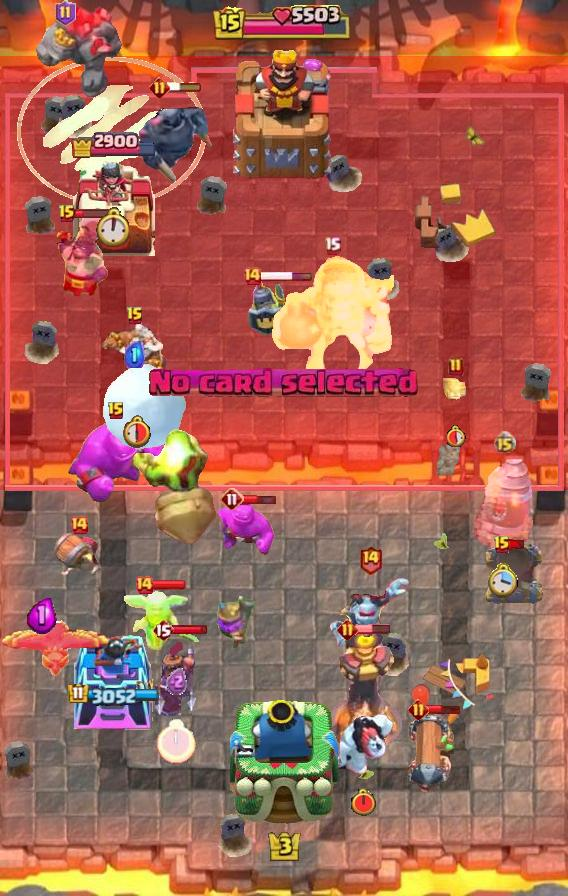battle-healer: (406, 708, 454, 798)
bomb-tower: (215, 596, 259, 650)
cannoneer-tower: (33, 0, 125, 100)
clock: (213, 5, 355, 43)
clone: (66, 420, 166, 504)
electro-dragon: (325, 627, 403, 753)
electro-giant: (270, 256, 394, 380)
electro-spirit: (27, 596, 57, 634), (165, 669, 186, 696), (125, 340, 145, 367)
elixir: (156, 720, 195, 764), (95, 207, 129, 247), (488, 561, 520, 598), (121, 414, 152, 448), (351, 787, 377, 816), (446, 425, 466, 447)
elixir-collector: (99, 323, 171, 399)
elixir-golem-big: (152, 634, 200, 724)
elixir-golem-small: (327, 575, 413, 653)
emote: (259, 271, 313, 282), (171, 624, 209, 636), (242, 494, 277, 507), (167, 81, 203, 93), (151, 579, 187, 591), (355, 623, 391, 635), (74, 208, 111, 219), (426, 705, 462, 716), (509, 539, 527, 550)
fisherman: (430, 445, 462, 475)
golden-knight: (0, 613, 110, 679)
golemite: (137, 88, 213, 184)
ice-spirit-evolution: (443, 372, 469, 400)
ice-wizard: (17, 57, 207, 206)
king-tower: (229, 43, 339, 181), (230, 698, 338, 826)
knight: (52, 530, 106, 582)
magic-archer: (474, 458, 534, 550)
monk: (55, 211, 111, 299)
musketeer: (482, 541, 546, 607)
poison: (115, 583, 203, 657)
princess: (246, 273, 290, 337)
queen-tower: (73, 623, 155, 731), (73, 156, 155, 256)
rage: (331, 712, 395, 778)
selected: (70, 130, 158, 158), (68, 682, 160, 706)
text: (357, 545, 382, 575), (220, 487, 244, 511), (55, 0, 76, 26), (493, 431, 516, 454), (152, 618, 174, 642), (337, 619, 359, 641), (149, 77, 170, 98), (407, 700, 428, 721), (242, 266, 262, 286), (69, 515, 89, 535), (134, 575, 154, 595), (58, 204, 76, 224), (126, 306, 144, 326), (107, 401, 125, 421), (493, 535, 511, 555), (323, 237, 341, 256), (448, 357, 464, 377)
tornado: (213, 503, 277, 557)
wall-breaker: (102, 363, 188, 449)
x-bow: (129, 405, 223, 549)
